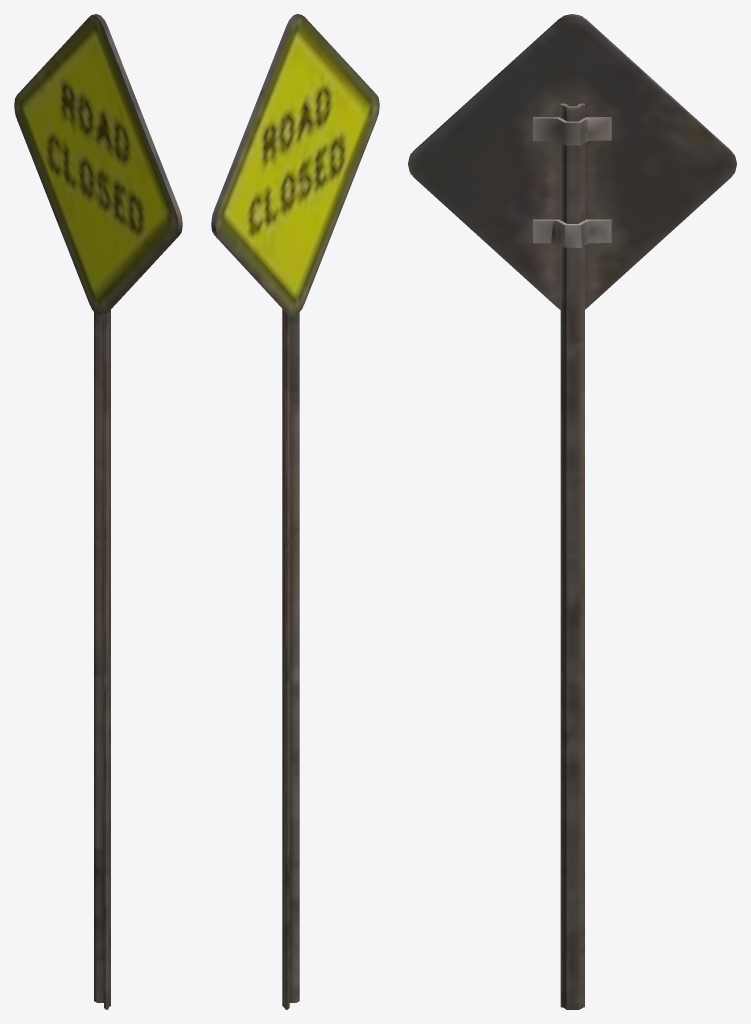
File: sm_trafficsign05.glb
3 renders of one model, left to right at view 1: azimuth 30°, elevation 25°; view 2: azimuth 150°, elevation 25°; view 3: azimuth 270°, elevation 25°, orthographic.
Parts seen in each view (by area): view 1: sm_trafficsign05_01, sm_trafficsign05_00; view 2: sm_trafficsign05_01, sm_trafficsign05_00; view 3: sm_trafficsign05_01, sm_trafficsign05_00.
Part boxes in pixels (bbox=[...]): sm_trafficsign05_01: bbox=[14, 14, 181, 1009]; sm_trafficsign05_00: bbox=[16, 14, 182, 1009]; sm_trafficsign05_01: bbox=[212, 14, 379, 1007]; sm_trafficsign05_00: bbox=[211, 14, 379, 1009]; sm_trafficsign05_01: bbox=[408, 15, 736, 1009]; sm_trafficsign05_00: bbox=[408, 14, 736, 1009].
Bounding box in the file's own units: 0.0311 × 1.9 × 0.5714.
Materials: 1 (1 with a texture image).
